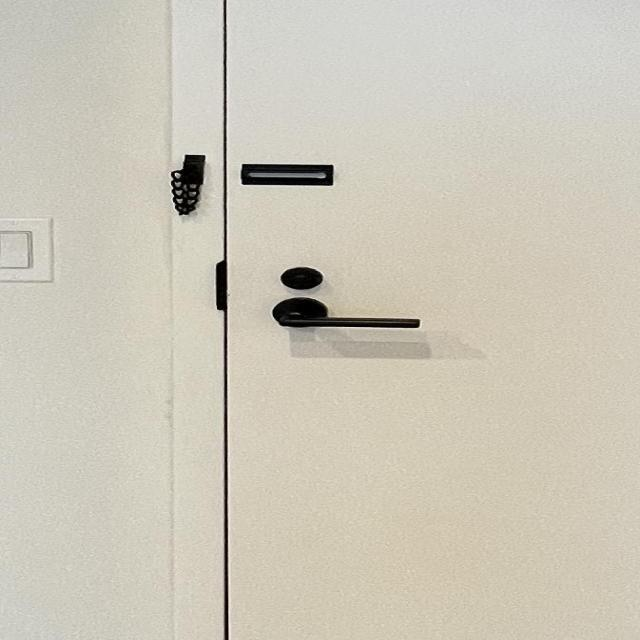door_handle: (265, 293, 431, 335)
